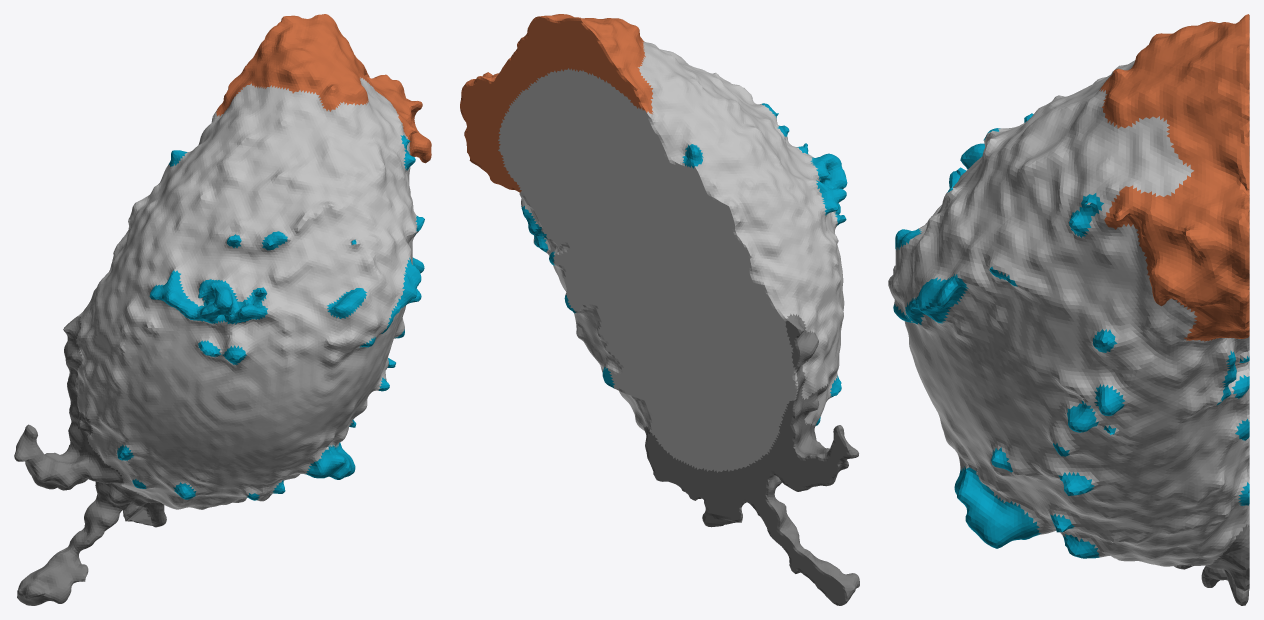
3 renders of one model, left to right at view 1: azimuth 30°, elevation 25°; view 2: azimuth 150°, elevation 25°; view 3: azimuth 270°, elevation 25°, orthographic. The views are drawn at different scales.
Size of the model in its own units: 124 by 159 by 69.72.
